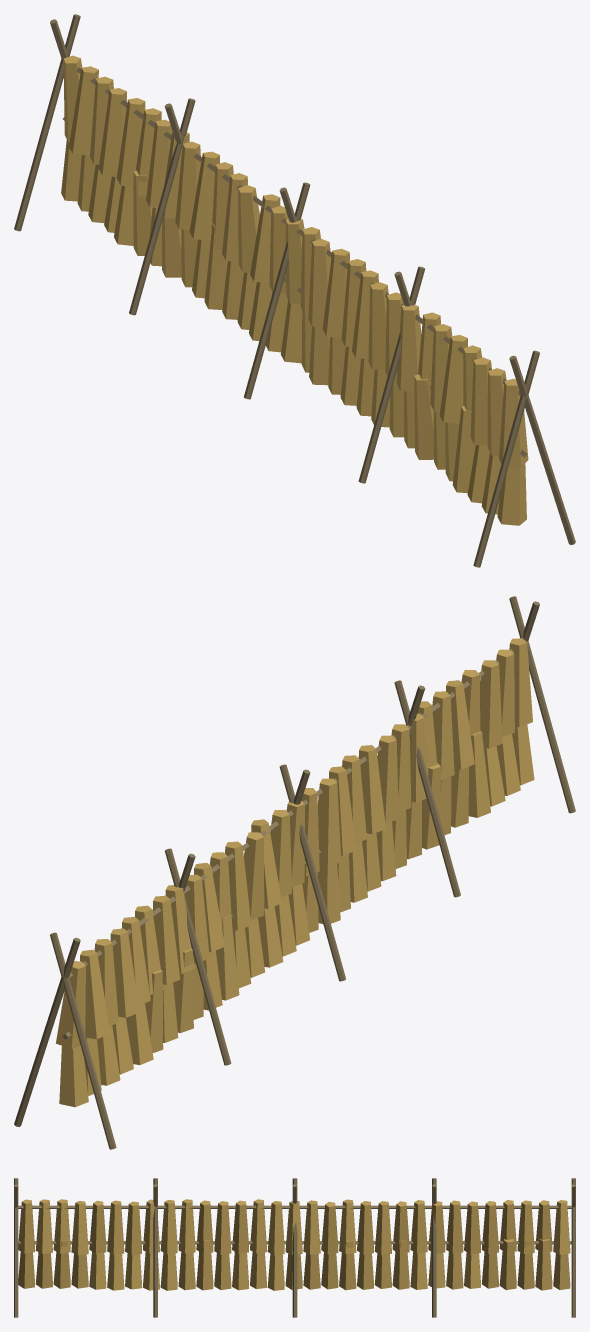
Rendered from hazagake_rack.glb.
3 renders of one model, top to bottom at view 1: azimuth 30°, elevation 25°; view 2: azimuth 150°, elevation 25°; view 3: azimuth 270°, elevation 25°, orthographic. The views are drawn at different scales.
Parts seen in each view (by area): view 1: hazagake; view 2: hazagake; view 3: hazagake.
Part boxes in pixels (box(x1,y1,x2,y2)): hazagake: box(14, 14, 575, 567); hazagake: box(14, 596, 575, 1149); hazagake: box(14, 1178, 575, 1317).
Bounding box in the file's own units: 1.27 × 2.42 × 10.08.
